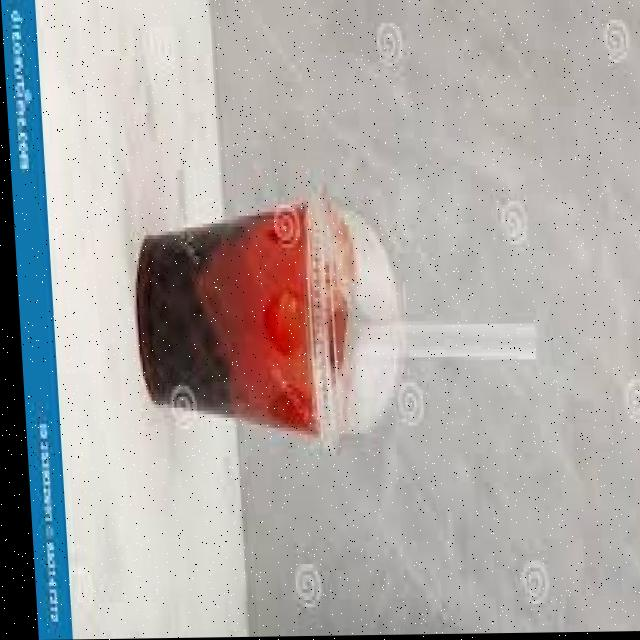cup: (132, 208, 311, 436)
